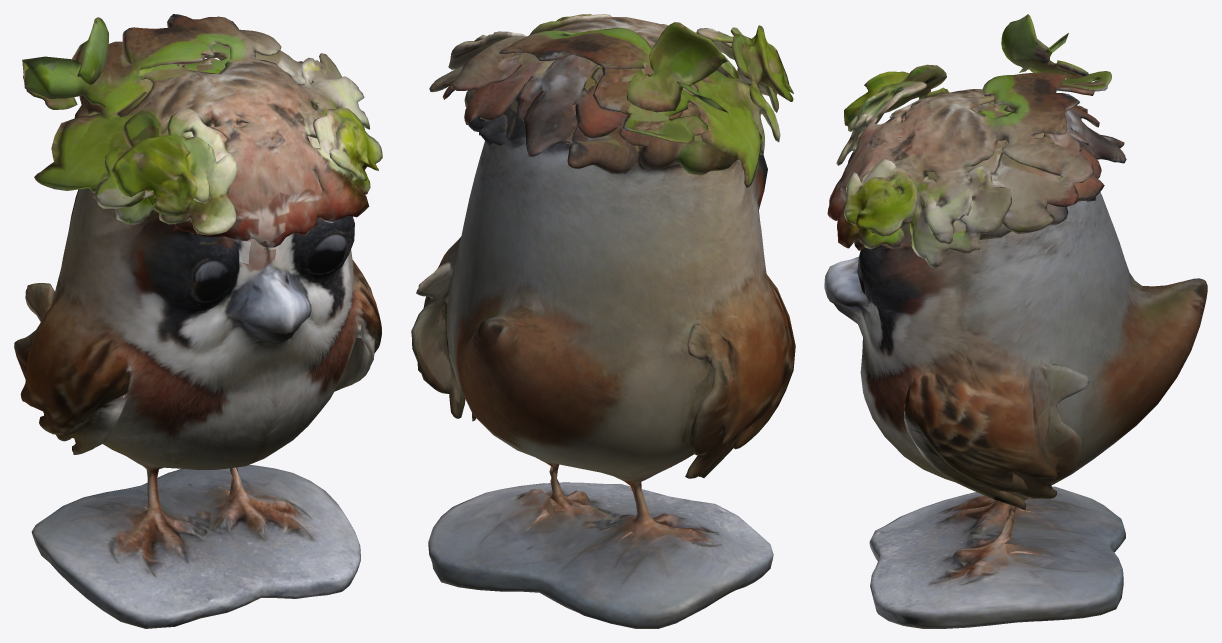
Rendered from cloddy.glb.
3 renders of one model, left to right at view 1: azimuth 30°, elevation 25°; view 2: azimuth 150°, elevation 25°; view 3: azimuth 270°, elevation 25°, orthographic. The views are drawn at different scales.
Size of the model in its own units: 1.19 by 2 by 1.32.
1 material, 1 textured.
